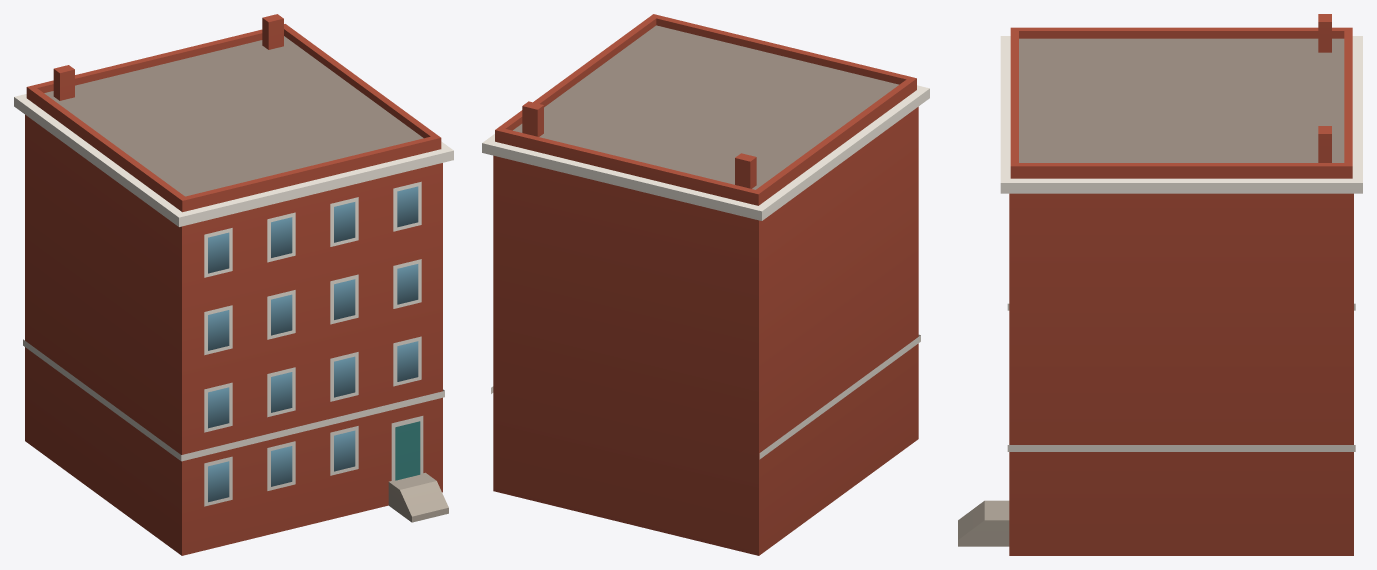
The model's file is park_n1_far.glb.
3 views of the same model, side by side, from view 1: azimuth 30°, elevation 25°; view 2: azimuth 150°, elevation 25°; view 3: azimuth 270°, elevation 25° (orthographic). The views are drawn at different scales.
Visible parts, largest first — view 1: park_n1_far; view 2: park_n1_far; view 3: park_n1_far.
Boxes of the visible parts, bbox=[...] form: park_n1_far: bbox=[14, 14, 453, 555]; park_n1_far: bbox=[482, 14, 929, 555]; park_n1_far: bbox=[958, 14, 1362, 555].
Size of the model in its own units: 12.64 by 16.49 by 14.68.
Materials: 1 (1 with a texture image).
